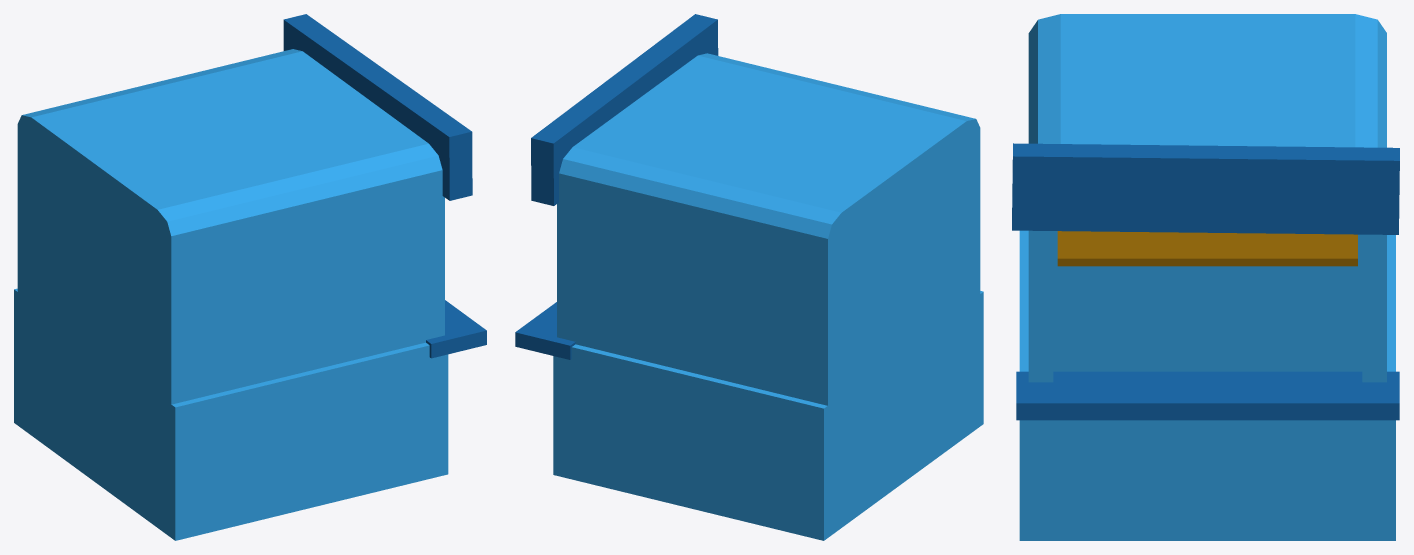
The model's file is barraca2.fbx.
The picture shows the model from 3 angles, left to right: view 1: azimuth 30°, elevation 25°; view 2: azimuth 150°, elevation 25°; view 3: azimuth 270°, elevation 25°; orthographic projection. The views are drawn at different scales.
Parts seen in each view (by area): view 1: barraTres; view 2: barraTres; view 3: barraTres.
Boxes of the visible parts, left/top/right/bottom form: barraTres: left=14, top=14, right=486, bottom=540; barraTres: left=515, top=14, right=983, bottom=540; barraTres: left=1012, top=14, right=1399, bottom=540.
Size of the model in its own units: 193 by 202 by 179.
